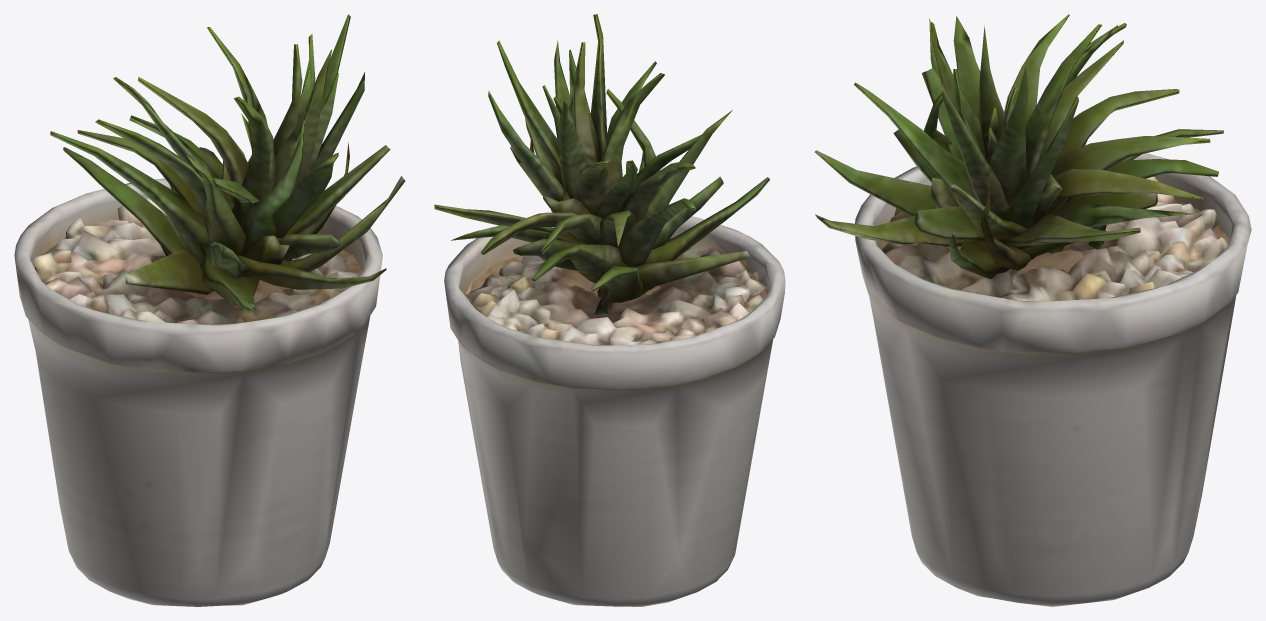
File: potted_plant_04.lite.glb
3 renders of one model, left to right at view 1: azimuth 30°, elevation 25°; view 2: azimuth 150°, elevation 25°; view 3: azimuth 270°, elevation 25°, orthographic. The views are drawn at different scales.
Visible parts, largest first — view 1: potted_plant_04_ground; view 2: potted_plant_04_ground; view 3: potted_plant_04_ground.
Boxes of the visible parts, x1=… form: potted_plant_04_ground: x1=14, y1=14, x2=405, y2=606; potted_plant_04_ground: x1=434, y1=14, x2=785, y2=606; potted_plant_04_ground: x1=814, y1=14, x2=1251, y2=606.
Size of the model in its own units: 0.1672 by 0.2672 by 0.1845.
Materials: 1 (1 with a texture image).
